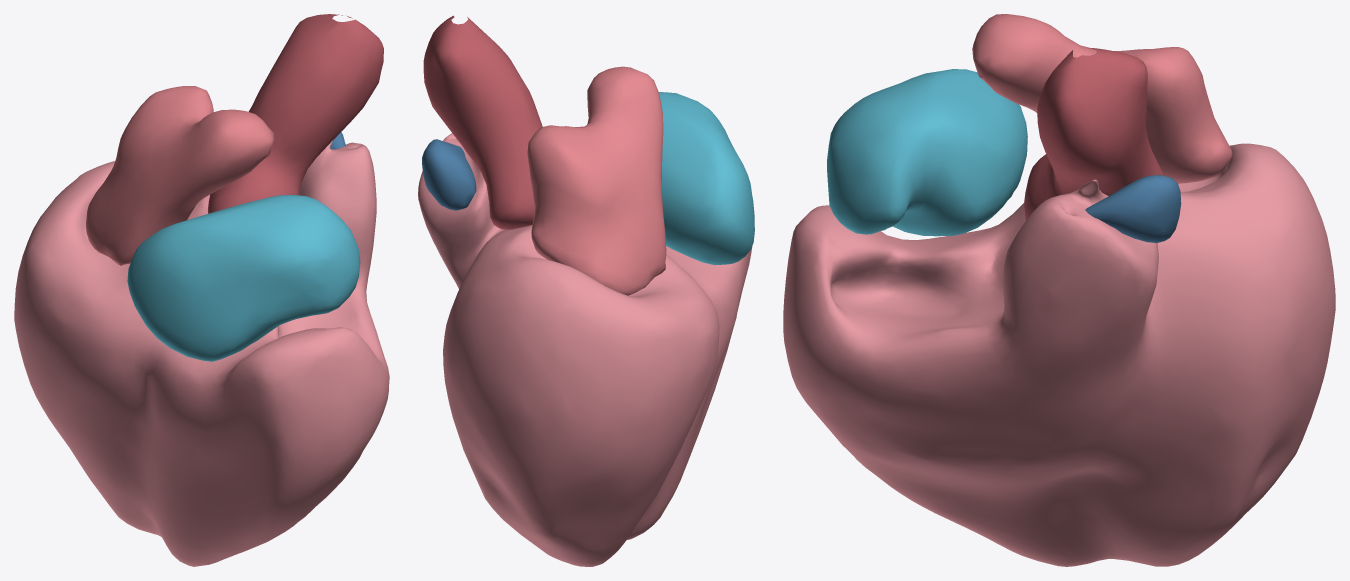
File: frame_36.glb
3 views of the same model, side by side, from view 1: azimuth 30°, elevation 25°; view 2: azimuth 150°, elevation 25°; view 3: azimuth 270°, elevation 25° (orthographic). The views are drawn at different scales.
Parts seen in each view (by area): view 1: Renderer Node; view 2: Renderer Node; view 3: Renderer Node.
Boxes of the visible parts, bbox=[...] form: Renderer Node: bbox=[14, 14, 389, 566]; Renderer Node: bbox=[418, 15, 754, 566]; Renderer Node: bbox=[783, 14, 1335, 566].
Bounding box in the file's own units: 107 × 164 × 135.
